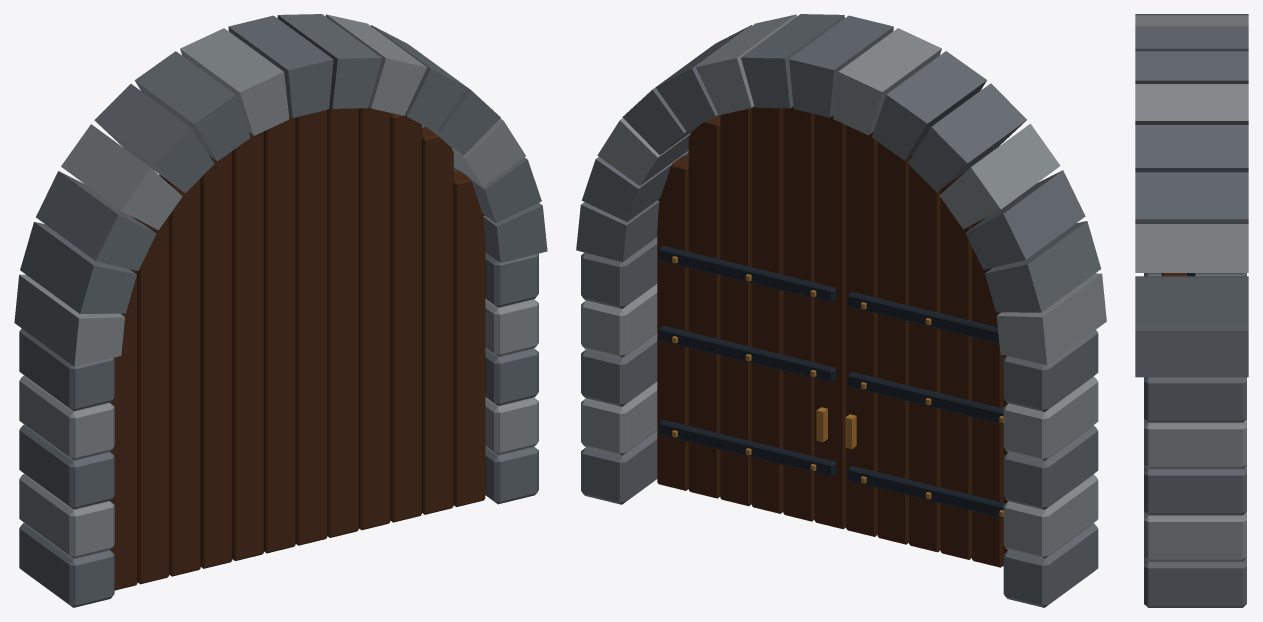
File: Gatehouse.obj
The picture shows the model from 3 angles, left to right: view 1: azimuth 30°, elevation 25°; view 2: azimuth 150°, elevation 25°; view 3: azimuth 270°, elevation 25°; orthographic projection. The views are drawn at different scales.
Parts seen in each view (by area): view 1: Oak, Limestone, StoneLight; view 2: Oak, Limestone, StoneLight, Iron, Bronze; view 3: Limestone, StoneLight.
Boxes of the visible parts, box(x1,y1,x2,y2) form: Oak: box(110, 106, 485, 590); Limestone: box(19, 14, 547, 607); StoneLight: box(14, 14, 538, 558); Oak: box(657, 106, 1008, 567); Limestone: box(576, 14, 1100, 607); StoneLight: box(581, 14, 1106, 558); Iron: box(659, 245, 1005, 518); Bronze: box(672, 256, 1003, 517); Limestone: box(1135, 14, 1248, 607); StoneLight: box(1135, 15, 1248, 561).
Size of the model in its own units: 5.24 by 5.21 by 1.15.
